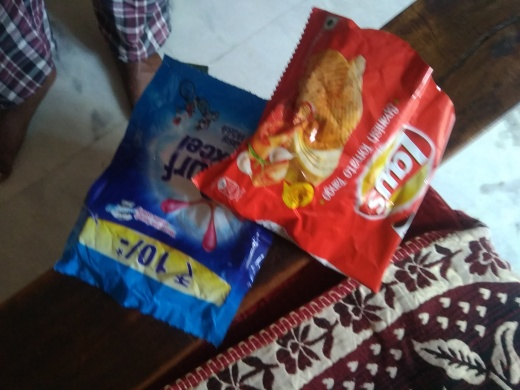lays: (215, 5, 465, 293)
surf: (66, 51, 273, 346)
